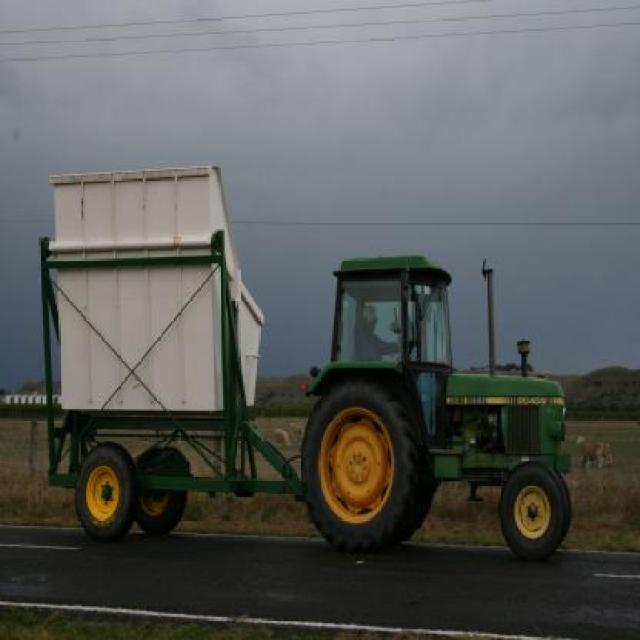Tratores - v5 YOLO V8L 2024-11-13: (288, 172, 600, 580)
